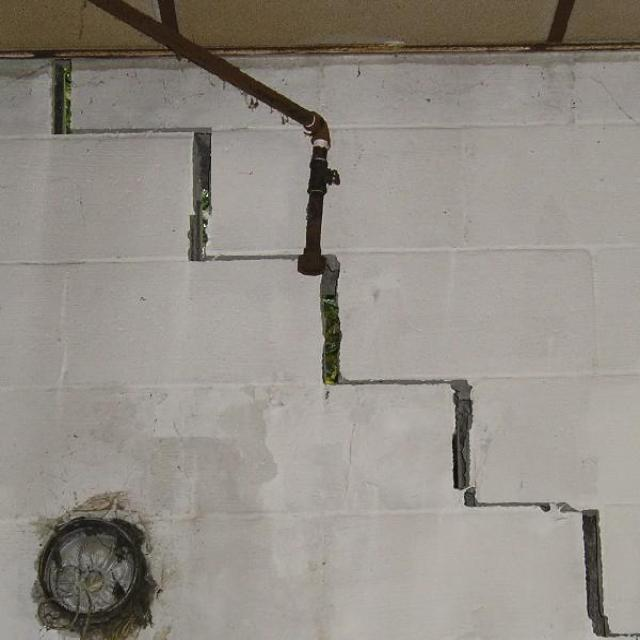crack: (47, 57, 638, 637)
